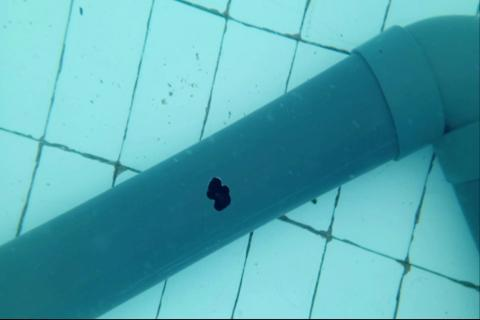kebocoran: (206, 175, 232, 212)
